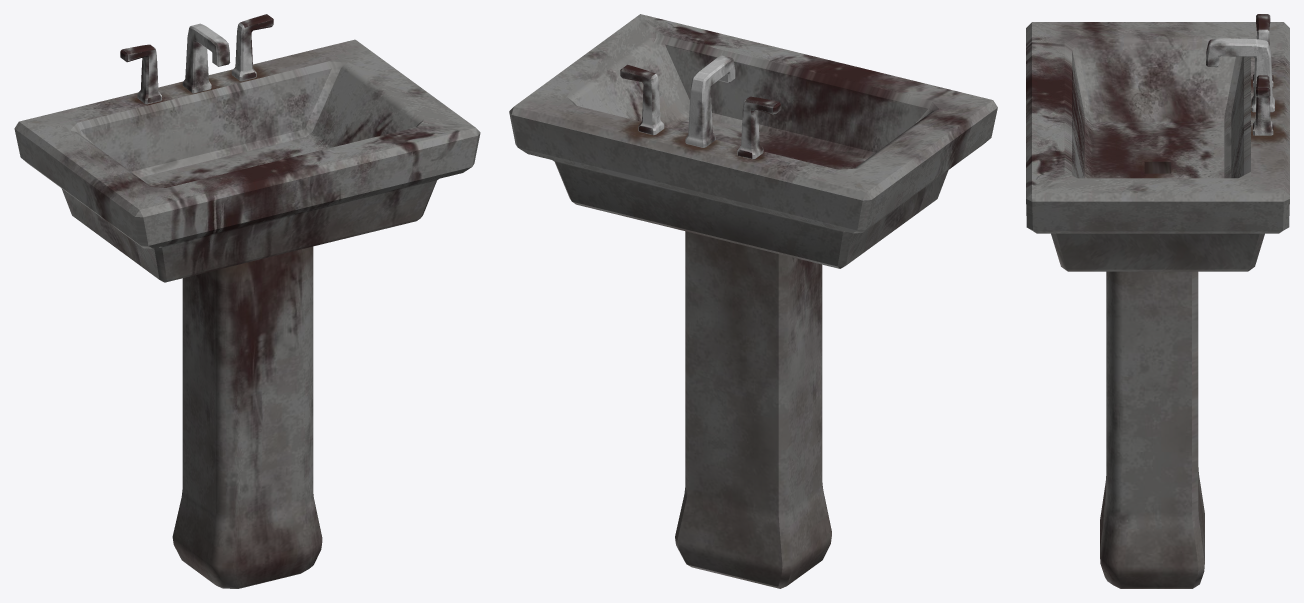
3 renders of one model, left to right at view 1: azimuth 30°, elevation 25°; view 2: azimuth 150°, elevation 25°; view 3: azimuth 270°, elevation 25°, orthographic. The views are drawn at different scales.
Visible parts, largest first — view 1: polySurface4, polySurface5, polySurface1, polySurface3, polySurface2; view 2: polySurface4, polySurface5, polySurface1, polySurface3, polySurface2; view 3: polySurface4, polySurface5, polySurface1, polySurface3, polySurface2.
Part boxes in pixels (box(x1,y1,x2,y2)): polySurface4: box(14, 39, 480, 282); polySurface5: box(172, 246, 322, 588); polySurface1: box(182, 23, 230, 93); polySurface3: box(231, 14, 273, 81); polySurface2: box(120, 44, 161, 104); polySurface4: box(509, 14, 997, 268); polySurface5: box(675, 231, 831, 588); polySurface1: box(685, 55, 735, 147); polySurface3: box(620, 64, 664, 135); polySurface2: box(737, 96, 781, 159); polySurface4: box(1026, 22, 1289, 271); polySurface5: box(1100, 271, 1204, 588); polySurface1: box(1206, 38, 1274, 112); polySurface3: box(1253, 75, 1273, 135); polySurface2: box(1253, 14, 1273, 86).
Bounding box in the file's own units: 1.43 × 2 × 0.9086.
3 materials, 3 textured.
